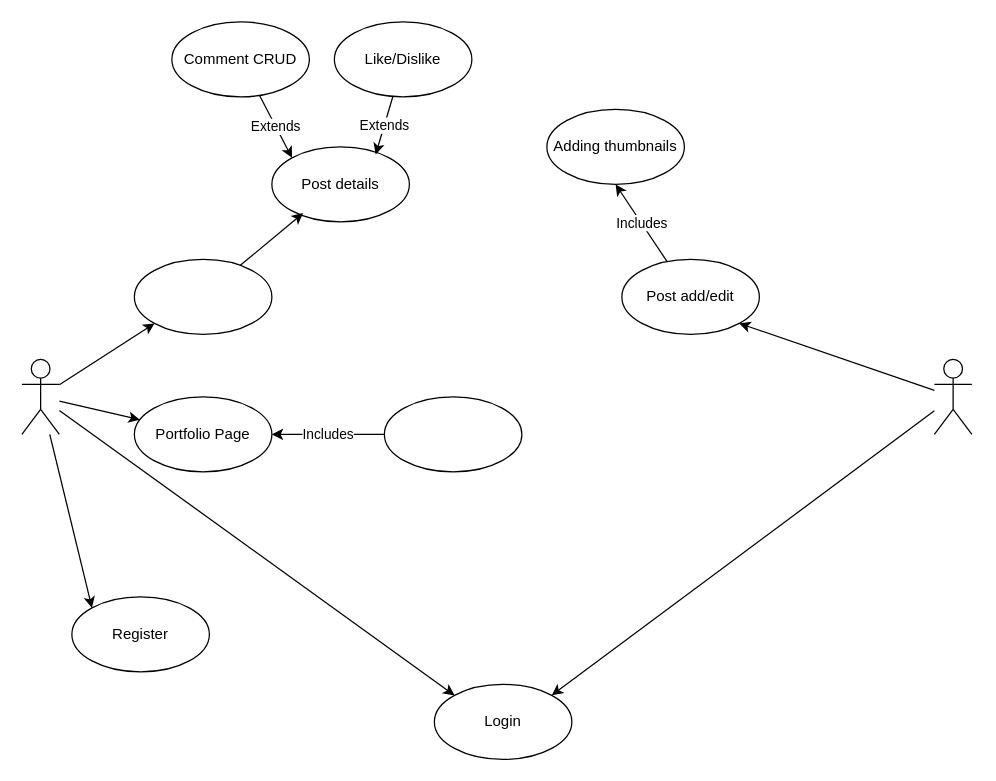
The diagram is 996 pixels wide and 781 high, and some of its shapes have lost their labels. Here are the shapes that lost their labels. From the top down, the centre of each, then its label:
At point (202, 296): "Blog page/ Post list".
At point (40, 396): "User".
At point (952, 396): "Admin".
At point (452, 434): "Links to external pages".
